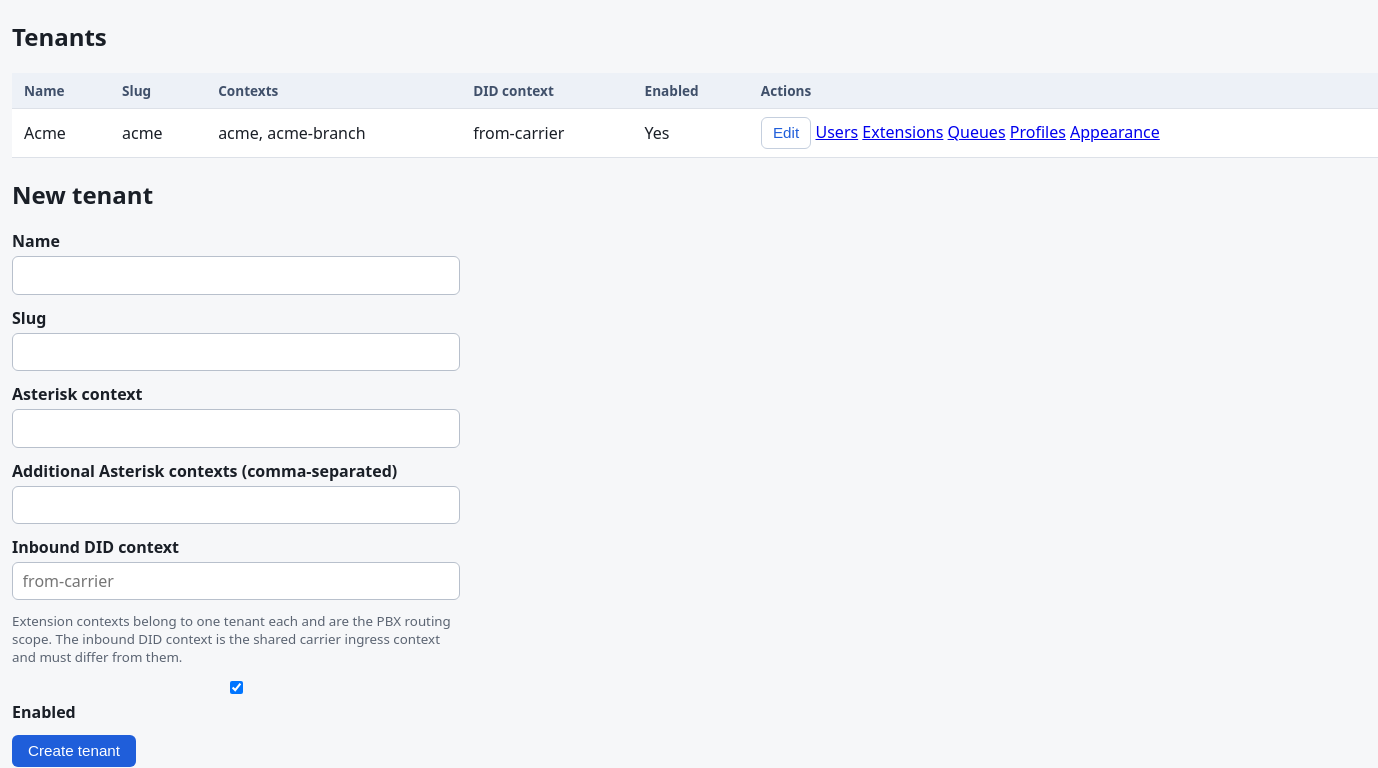
Test: editing existing records › reports a stale revision from the server
The image size is (1378, 768).
Click the button "Edit". click: (786, 133)
box: [761,117,811,149]
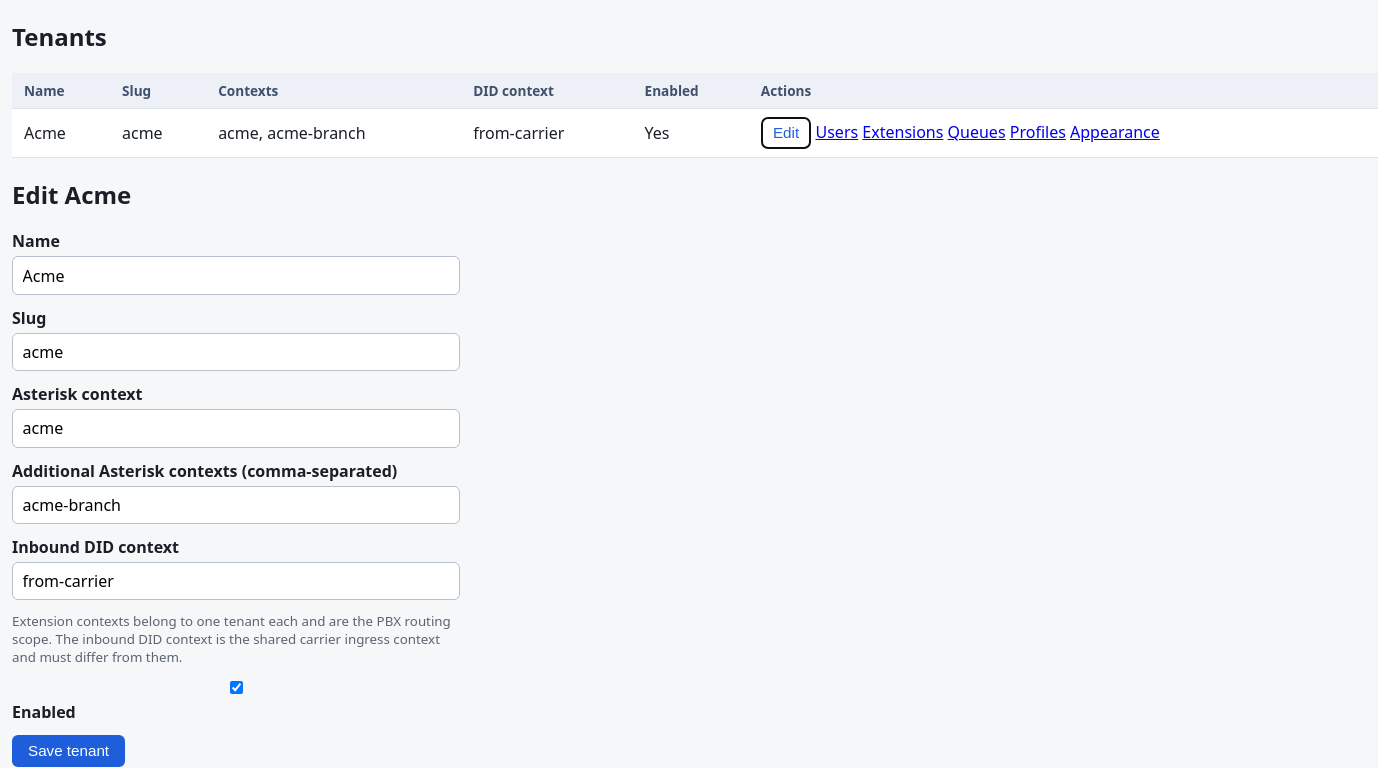
Click the button "Save tenant". click: (69, 751)
box: [12,735,125,767]
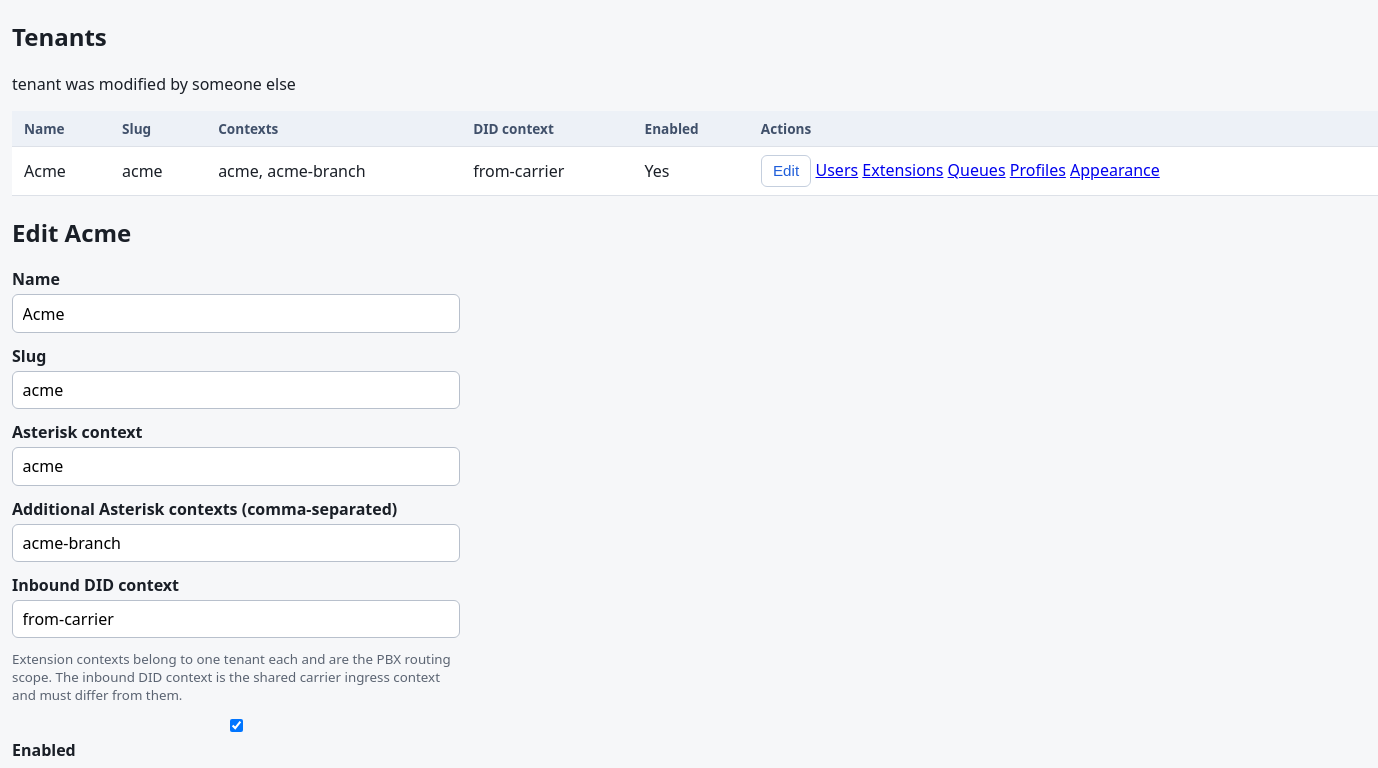
Now the message shows "modified by someone else", box [12,73,296,95]
